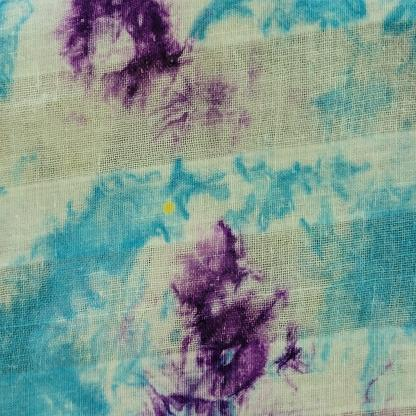spot: (158, 190, 190, 224)
